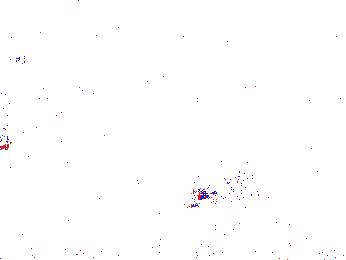flame jellyfish: (1, 51, 44, 151), (269, 173, 346, 228), (190, 168, 260, 219)
